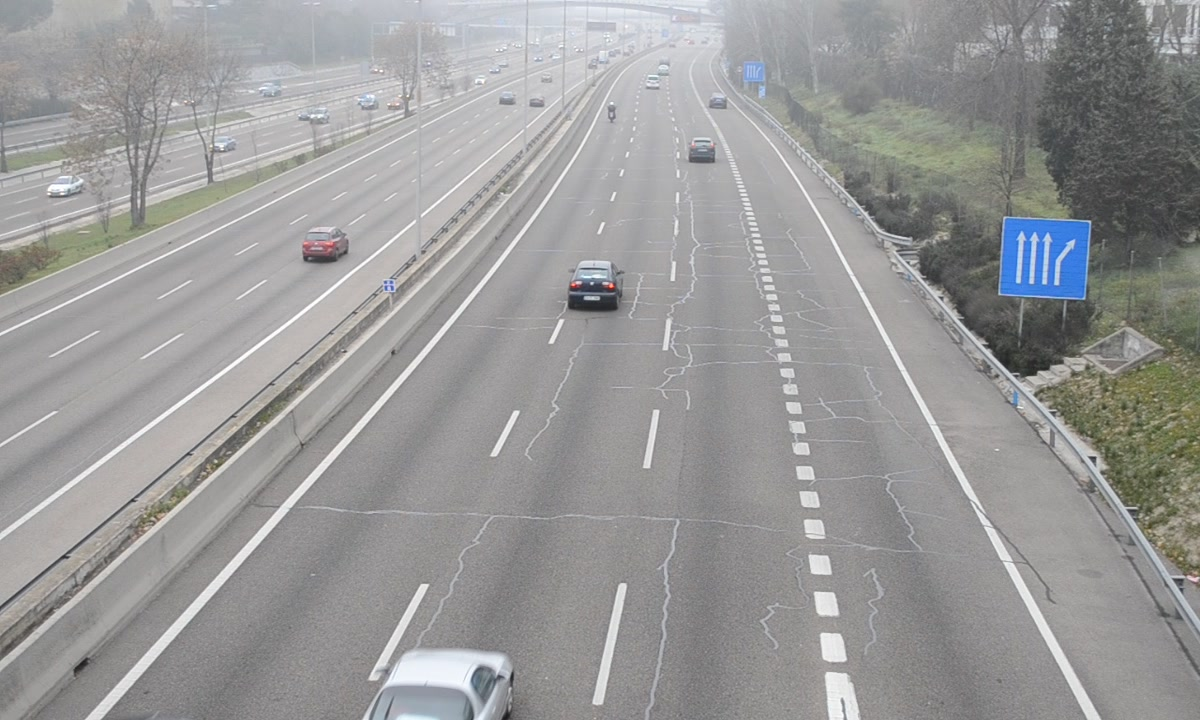car: (568, 261, 625, 311), (689, 136, 717, 164)
motorcycle: (607, 101, 617, 124)
